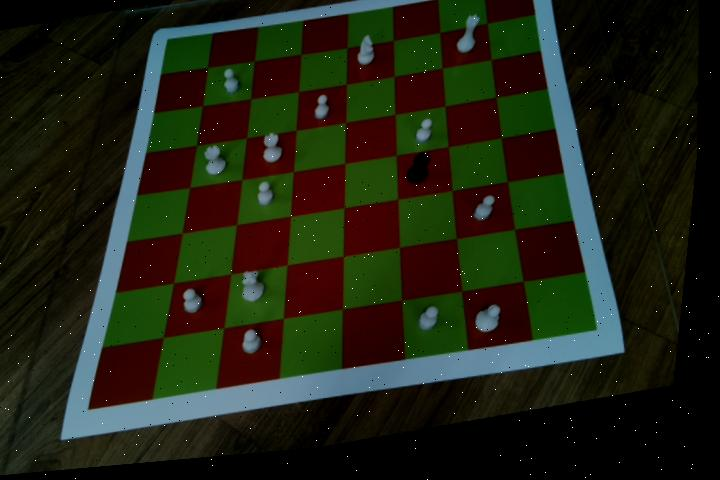chessboard-detect: (96, 0, 607, 414)
